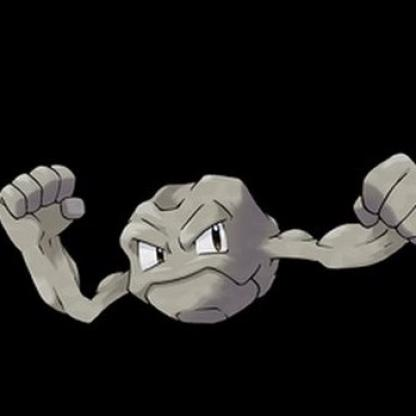Geodude: (1, 143, 416, 336)
